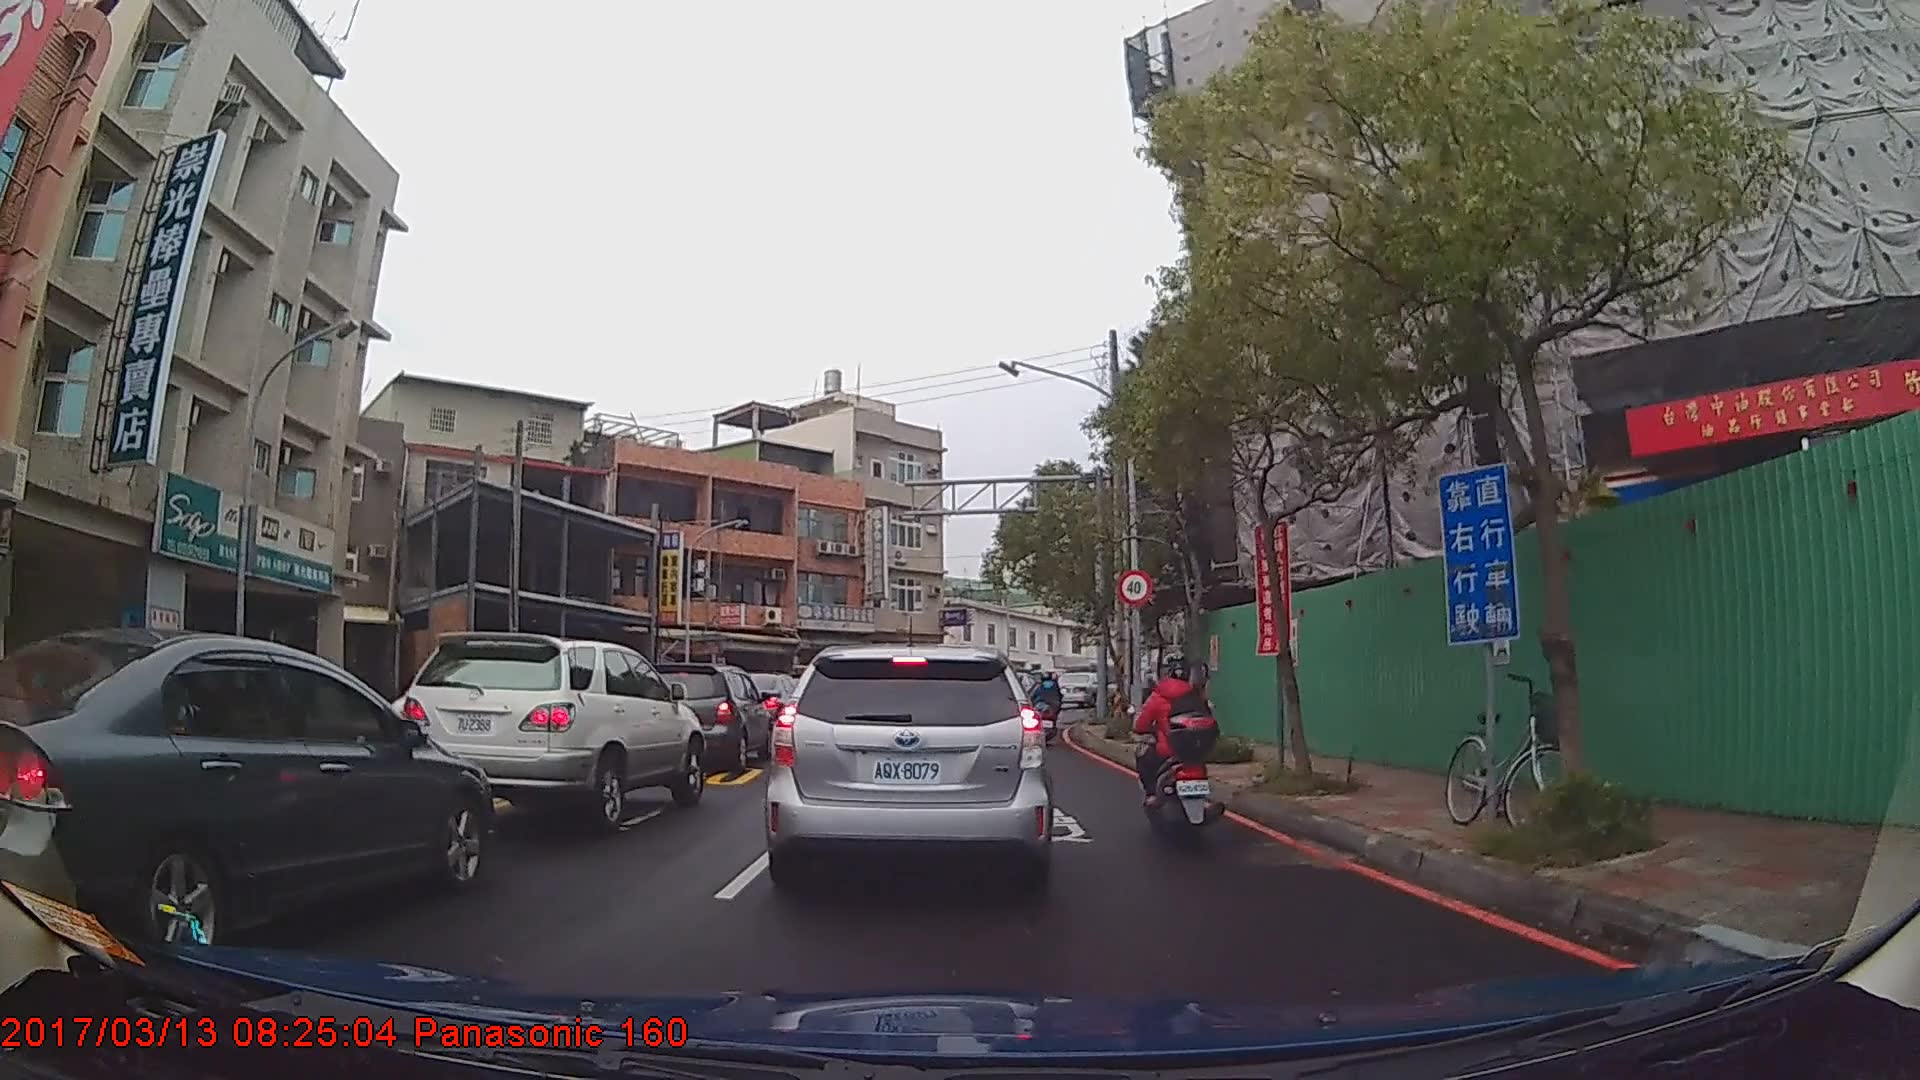rider: (1129, 648, 1222, 845), (1034, 671, 1067, 751)
vehicle: (0, 624, 493, 959), (763, 644, 1055, 890), (394, 629, 705, 829), (637, 661, 772, 771)
